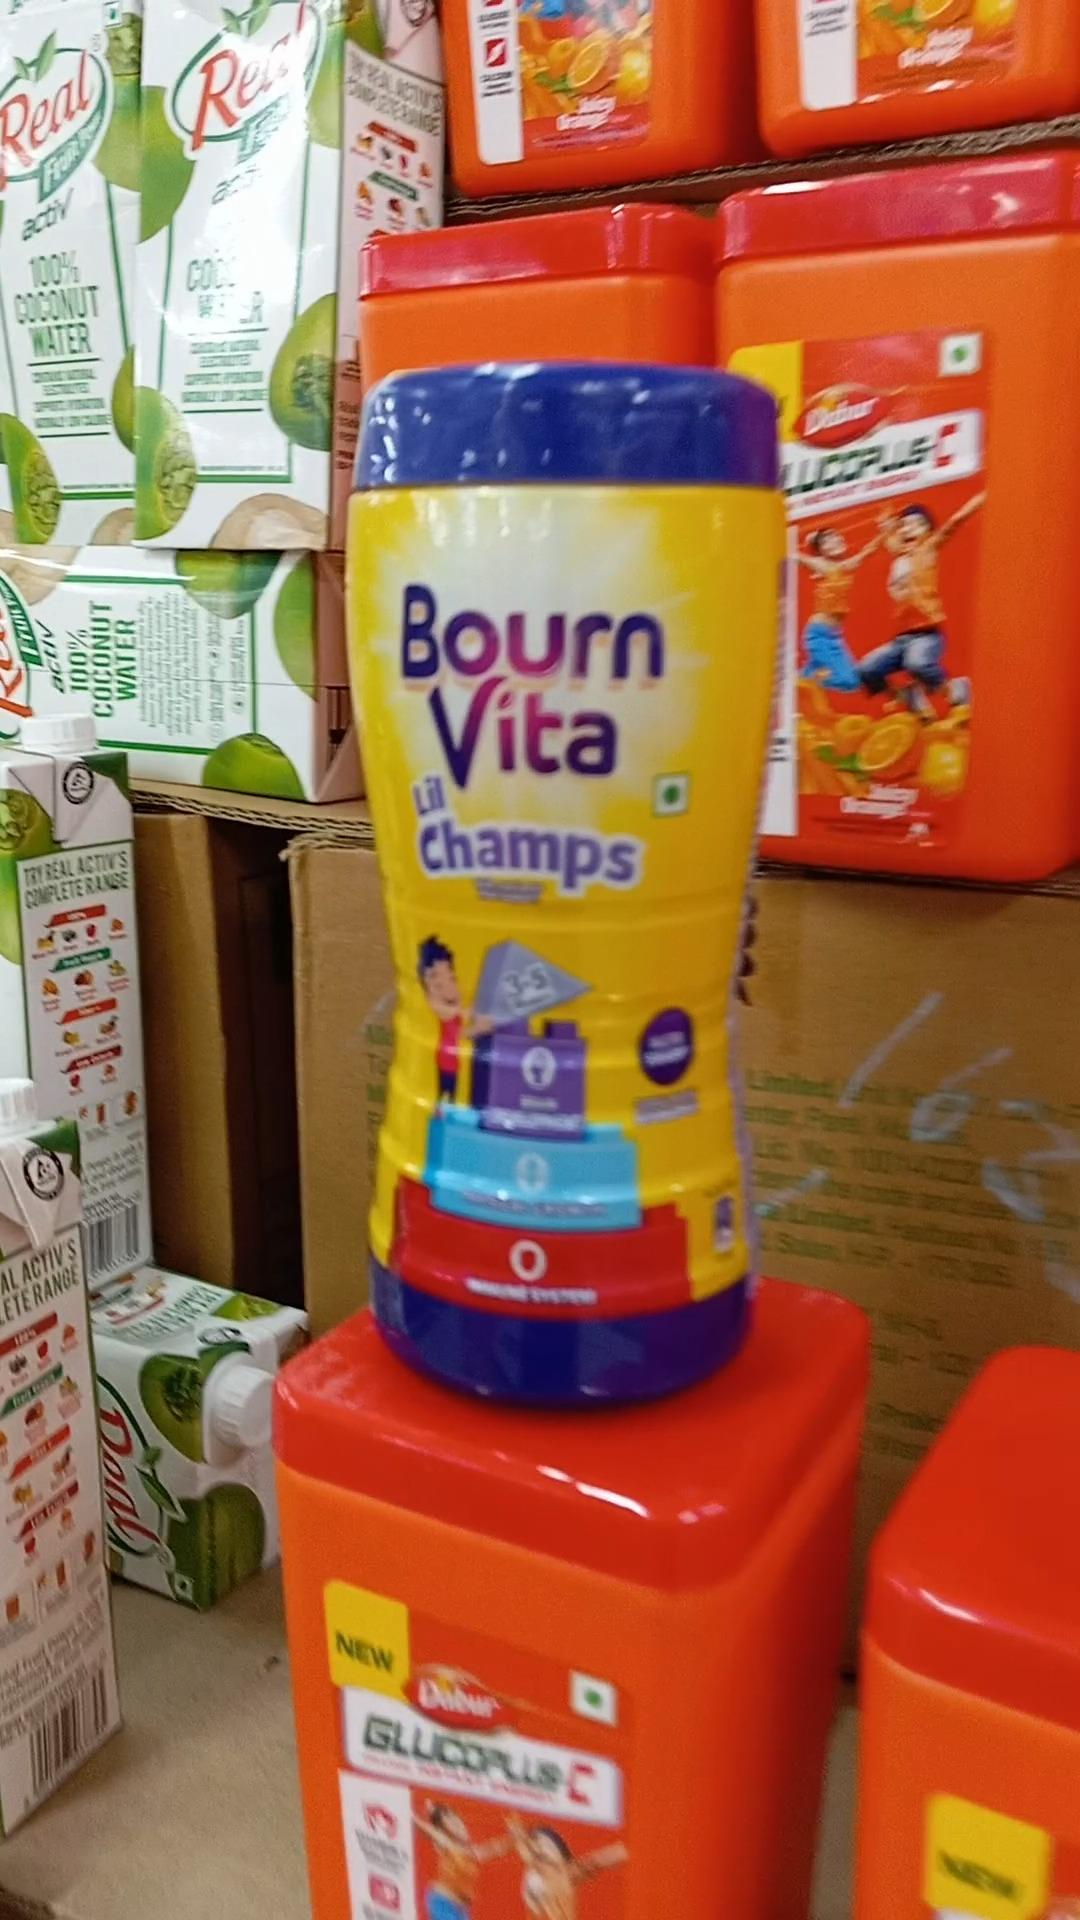BOURN_VITA_CHAMPS_500_G_JAR: (348, 357, 761, 1406)
